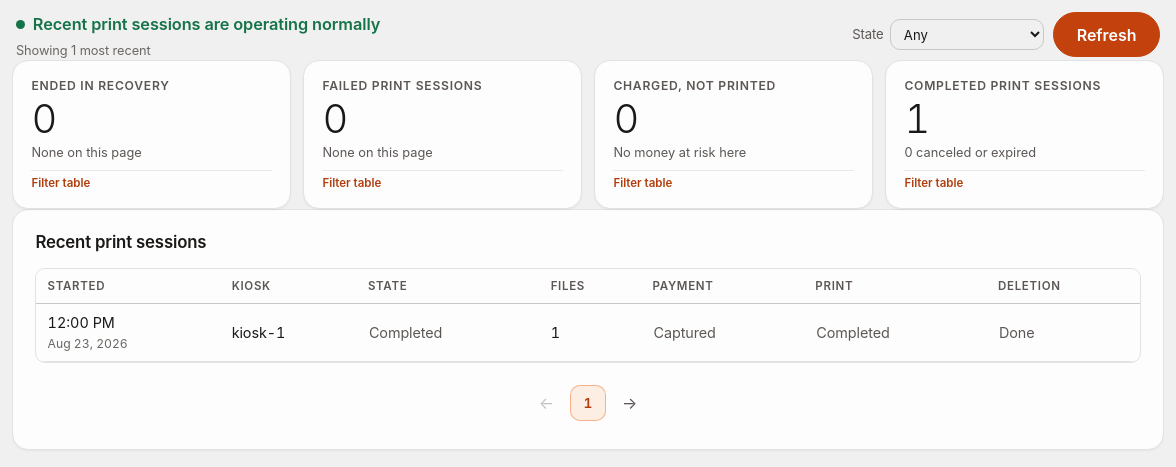
Test: numbered pagination › keeps visited pages reachable in one click after paging back
Expected: the text "kiosk-1" is shown, [220,304,357,361]
Click the button named "Next page" at (630, 403), box [612,385,648,421]
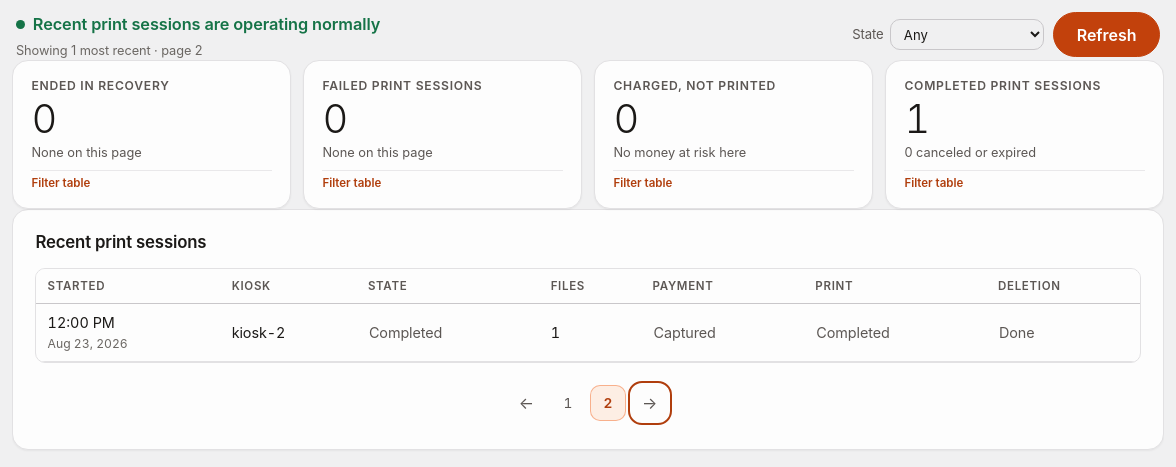
Now the text "kiosk-2" is shown, box [220,304,357,361]
Click the button named "Next page" at (650, 403), box [632,385,668,421]
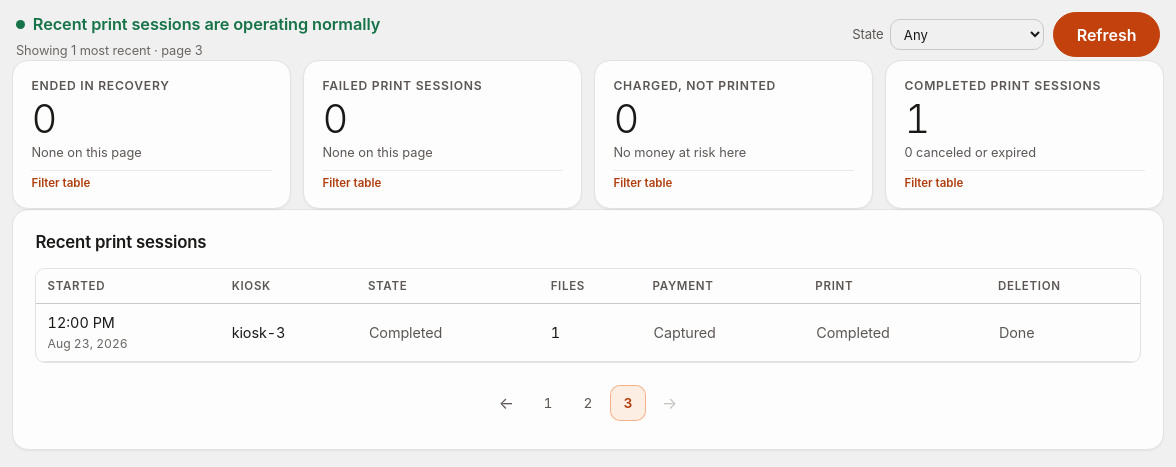
Now the text "kiosk-3" is shown, box [220,304,357,361]
Note: Jump straight back to the first page by number, not by three arrow taps.
Click the button named "Page 1" at (548, 403), box [530,385,566,421]
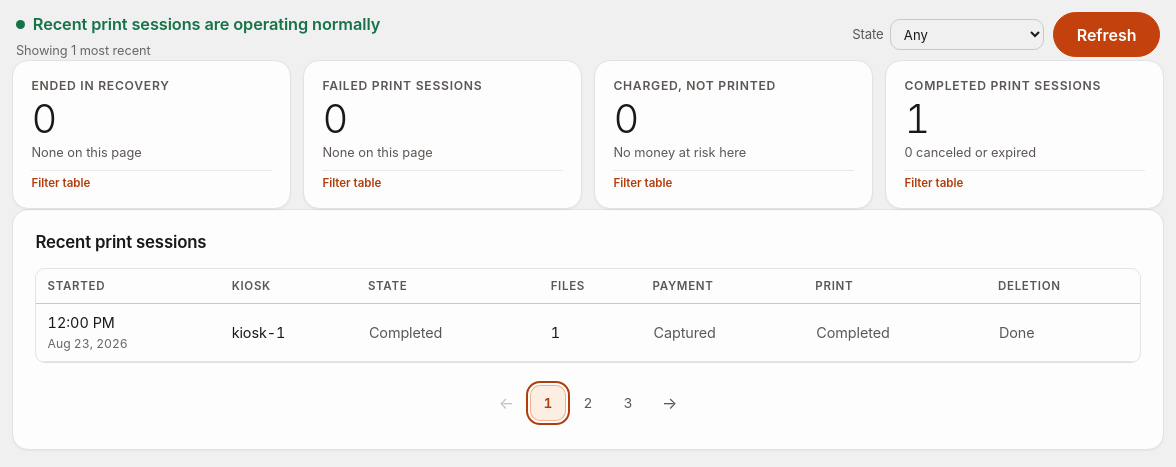
Now the button named "Page 3" is enabled
Now the text "kiosk-1" is shown, box [220,304,357,361]
Click the button named "Page 3" at (628, 403), box [610,385,646,421]
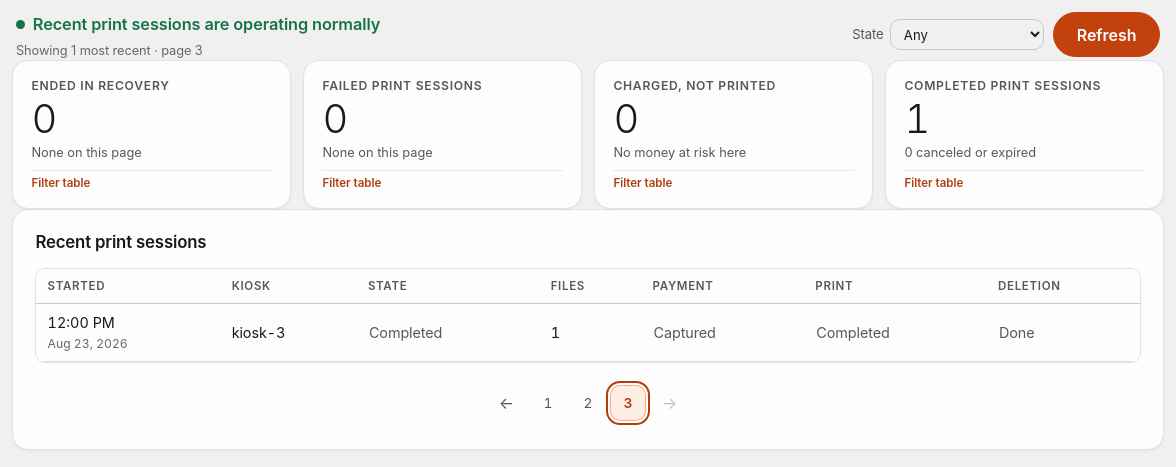
Now the text "kiosk-3" is shown, box [220,304,357,361]
